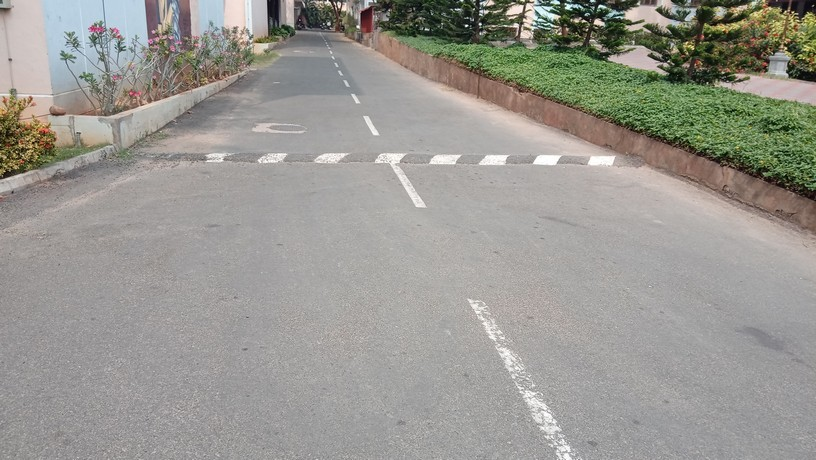bump: (116, 151, 655, 170)
